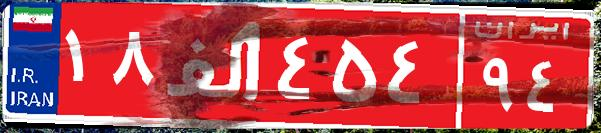1: (57, 26, 110, 107)
4: (385, 28, 445, 110), (273, 28, 330, 110), (525, 38, 570, 115)
5: (330, 28, 385, 110)
8: (110, 28, 158, 105)
9: (475, 38, 525, 113)
الف: (158, 15, 273, 115)
